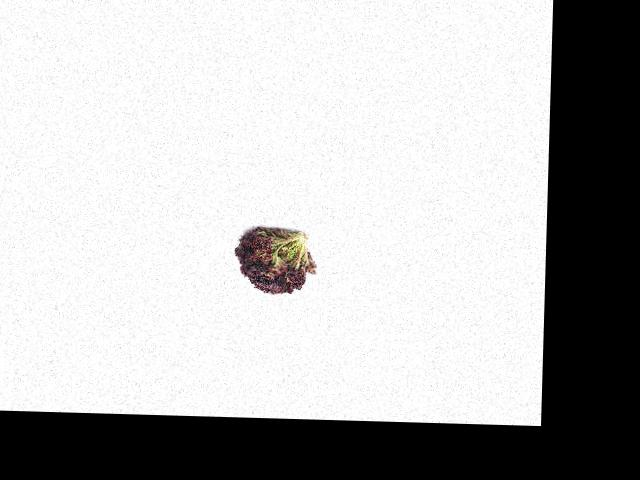lettuce: (229, 221, 313, 297)
